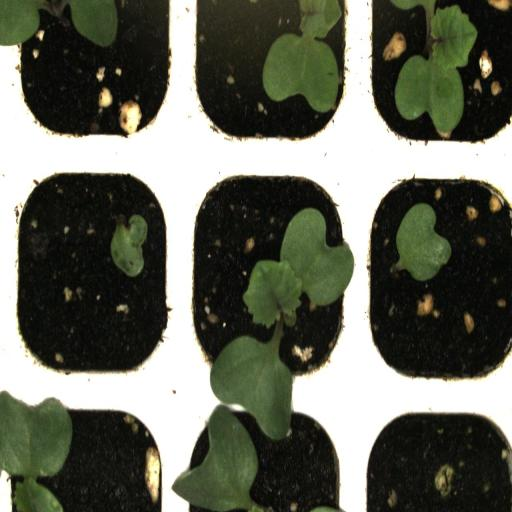seedling: (179, 157, 356, 400), (359, 0, 512, 159)
weak: (0, 154, 178, 398), (357, 157, 512, 398)
